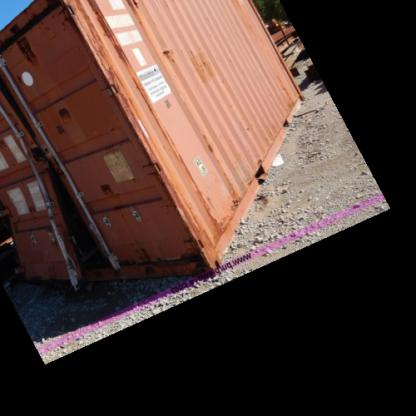Damage: (33, 136, 93, 288), (64, 2, 131, 86), (190, 183, 230, 249), (4, 16, 44, 78), (127, 233, 168, 278), (48, 100, 75, 136), (190, 127, 218, 160), (192, 48, 212, 82), (154, 41, 178, 66), (94, 173, 116, 200)
